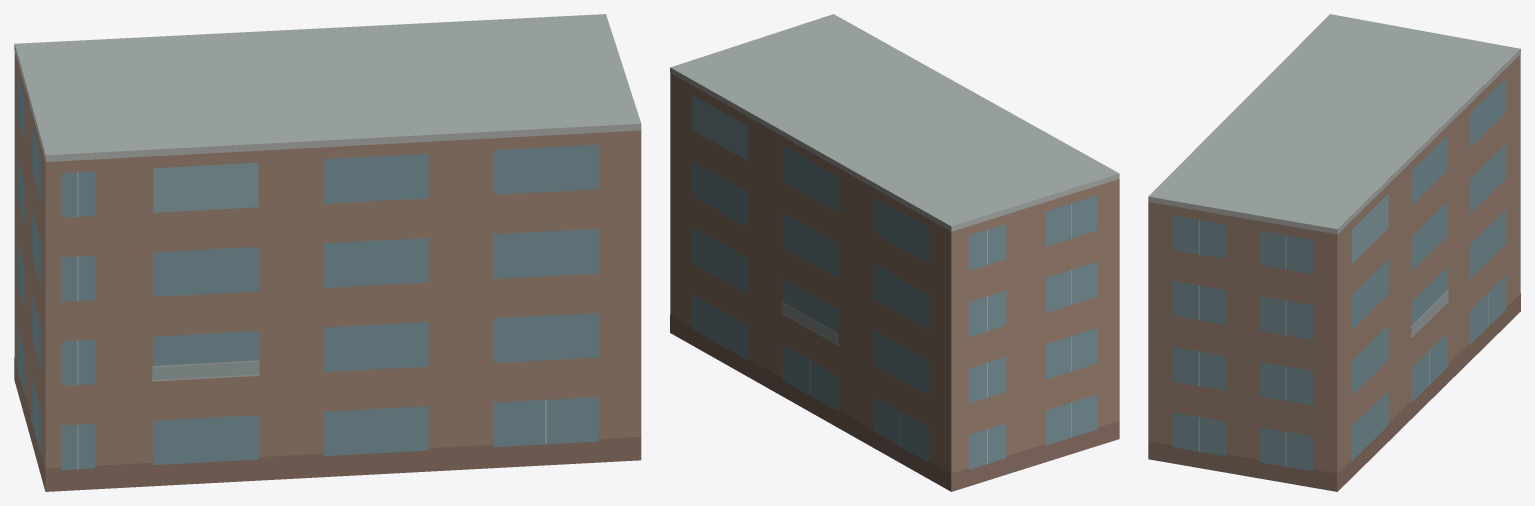
The model's file is survey-upis-32682156.glb.
3 renders of one model, left to right at view 1: azimuth 30°, elevation 25°; view 2: azimuth 150°, elevation 25°; view 3: azimuth 270°, elevation 25°, orthographic. The views are drawn at different scales.
Parts seen in each view (by area): view 1: survey-upis-32682156.tmp; view 2: survey-upis-32682156.tmp; view 3: survey-upis-32682156.tmp.
Boxes of the visible parts, bbox=[...] form: survey-upis-32682156.tmp: bbox=[14, 14, 641, 491]; survey-upis-32682156.tmp: bbox=[670, 14, 1119, 491]; survey-upis-32682156.tmp: bbox=[1148, 14, 1520, 491].
Size of the model in its own units: 21.45 by 12.2 by 15.7.
